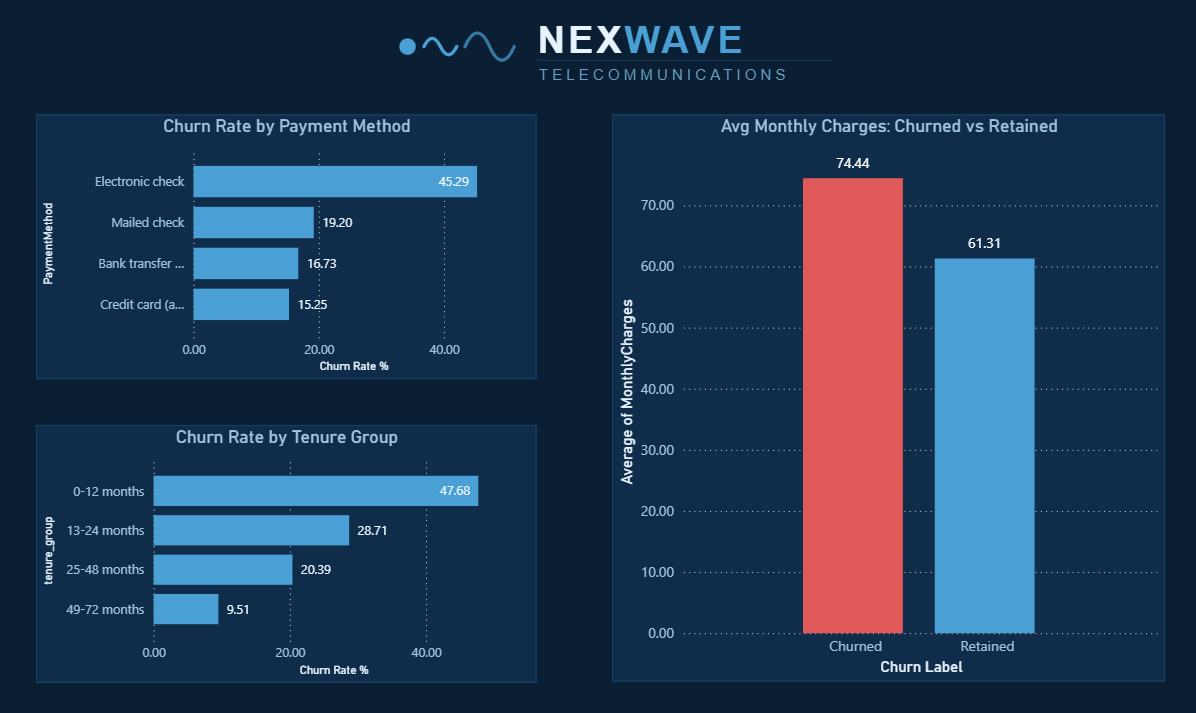

What the dashboard file says about the page in this screenshot:
{"tool":"powerbi","page":{"name":"Customer Segment","canvas":[1280,720],"ordinal":1},"visuals":[{"type":"image","box":[1.4,0,1279,130.4],"z":0},{"type":"barChart","title":"Churn Rate by Tenure Group","fields":{"Category":["telco_churn_cleaned.tenure_group"],"Y":["telco_churn_cleaned.Churn Rate %"]},"box":[91.7,425,476.7,245],"z":5000},{"type":"clusteredBarChart","title":"Churn Rate by Payment Method","fields":{"Category":["telco_churn_cleaned.PaymentMethod"],"Y":["telco_churn_cleaned.Churn Rate %"]},"box":[91.7,130,476.7,251.7],"z":5001},{"type":"lineClusteredColumnComboChart","title":"Avg Monthly Charges: Churned vs Retained","fields":{"Category":["telco_churn_cleaned.Churn Label"],"Y":["Avg(telco_churn_cleaned.MonthlyCharges)"]},"box":[640,130,526.7,540],"z":5002}]}

Visuals, with their boxes on the page's 1280x720 design canvas (x1, y1, x2, y2). These are canvas units, not pixel positions in the 1196x713 screenshot, which may show the page scaled, cropped or inside an application window:
image: {"left": 1, "top": 0, "right": 1280, "bottom": 130}
"Churn Rate by Tenure Group" barChart: {"left": 92, "top": 425, "right": 568, "bottom": 670}
"Churn Rate by Payment Method" clusteredBarChart: {"left": 92, "top": 130, "right": 568, "bottom": 382}
"Avg Monthly Charges: Churned vs Retained" lineClusteredColumnComboChart: {"left": 640, "top": 130, "right": 1167, "bottom": 670}
